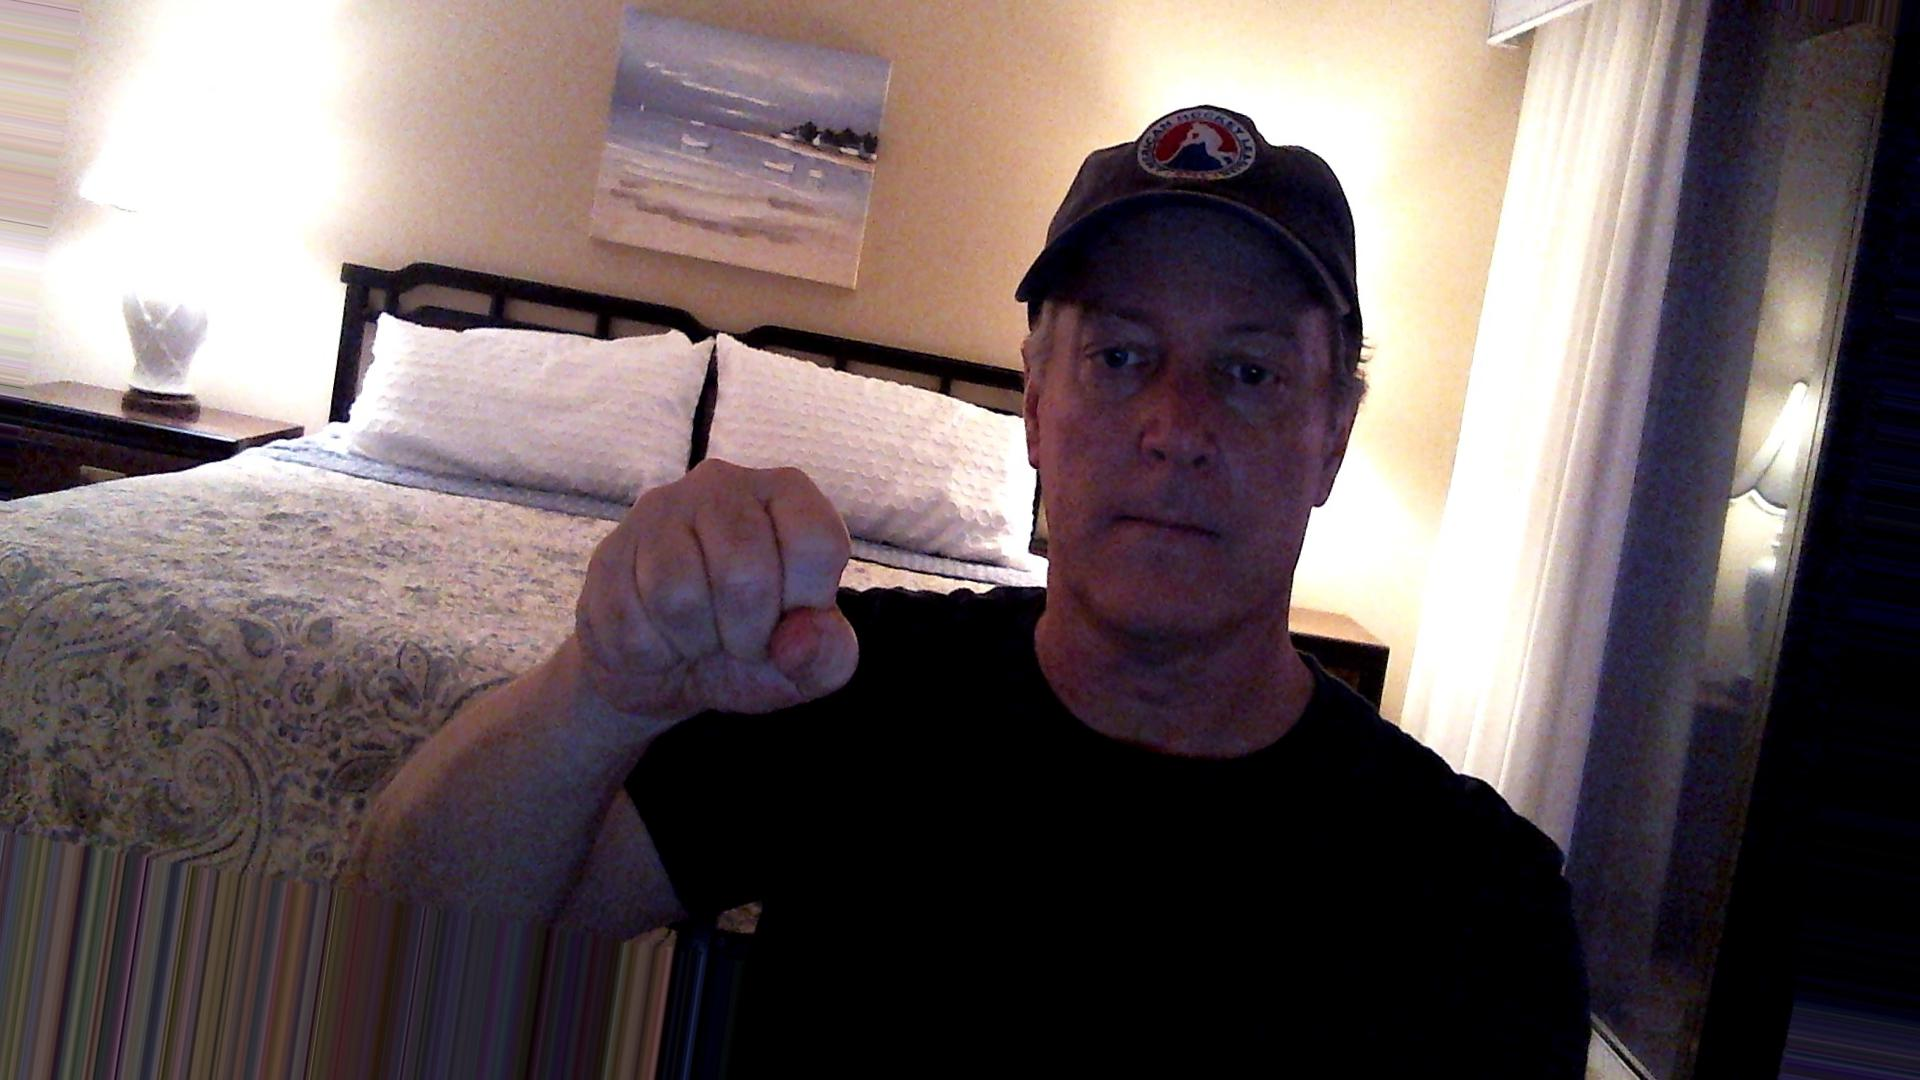Yes: (559, 434, 893, 771)
